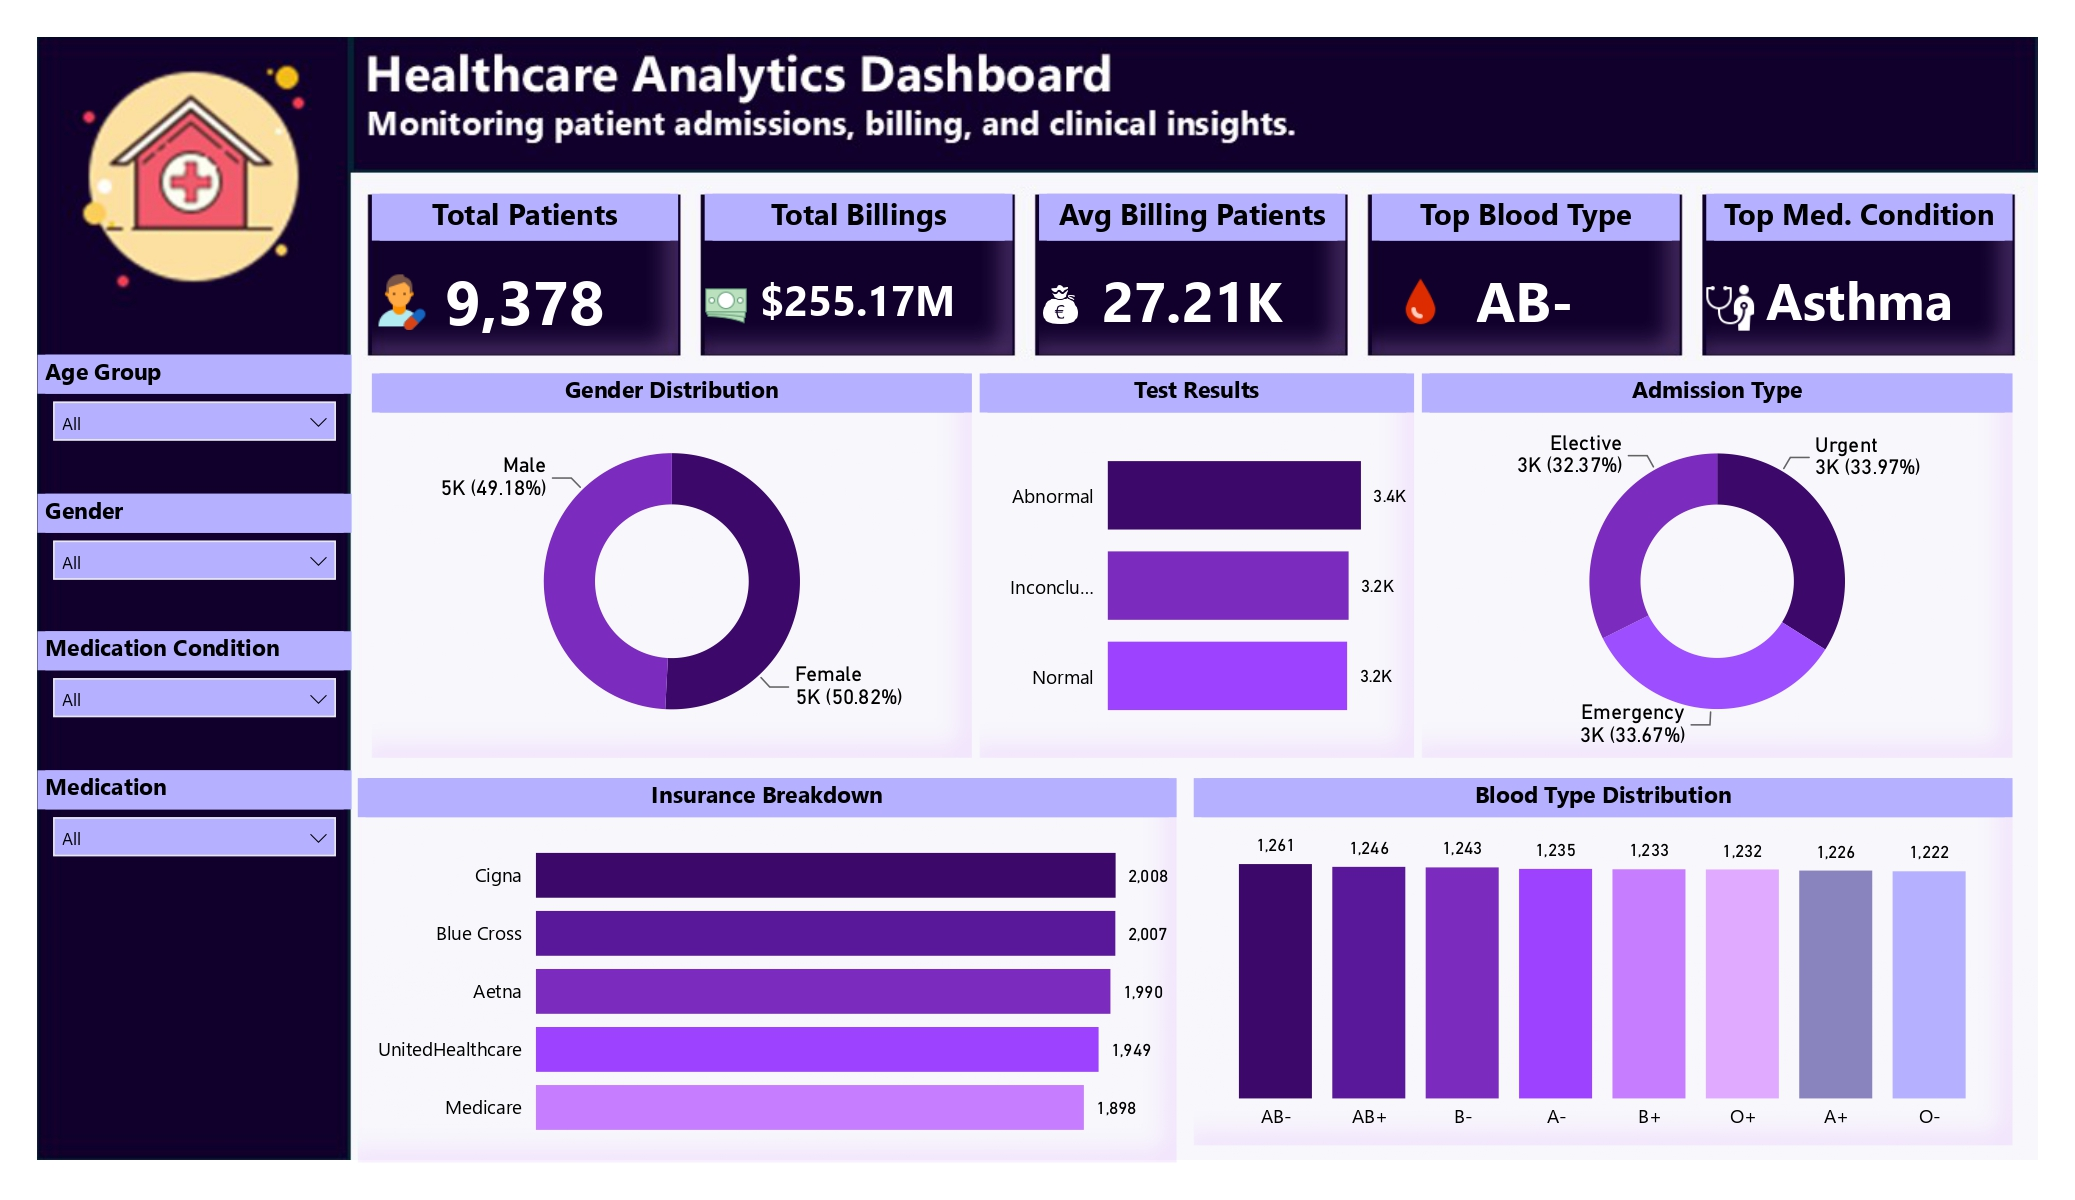

The dashboard page shown, as its layout file describes it:
{"tool":"powerbi","page":{"name":"Patient Demographics","canvas":[1280,720],"ordinal":2},"visuals":[{"type":"cardVisual","title":"Total Patients","fields":{"Data":["Measuress.No. of Patients"]},"box":[213.5,100.1,196.6,102.5],"z":0},{"type":"cardVisual","title":"Total Billings","fields":{"Data":["Measuress.Total Billings"]},"box":[427.1,100.1,196.6,102.5],"z":1000},{"type":"cardVisual","title":"Avg Billing Patients","fields":{"Data":["Measuress.Average Billing per Patient"]},"box":[640.6,100.1,196.6,102.5],"z":2000},{"type":"cardVisual","title":"Top Blood Type","fields":{"Data":["Measuress.Most Common Blood Type"]},"box":[854.2,100.1,196.6,102.5],"z":3000},{"type":"cardVisual","title":"Top Med. Condition","fields":{"Data":["Measuress.Most Common Medical Condition"]},"box":[1067.7,100.1,196.6,102.5],"z":4000},{"type":"slicer","title":"Gender","fields":{"Values":["Dataset.Gender"]},"box":[0,291.6,201.5,68.8],"z":5000},{"type":"slicer","title":"Age Group","fields":{"Values":["Dataset.Age Group"]},"box":[0,202.7,201.5,68.8],"z":6000},{"type":"slicer","title":"Medication Condition","fields":{"Values":["Dataset.Medical Condition"]},"box":[0,380.4,201.5,68.8],"z":7000},{"type":"slicer","title":"Medication","fields":{"Values":["Dataset.Medication"]},"box":[0,469.3,201.5,68.8],"z":8000},{"type":"donutChart","title":"Gender Distribution","fields":{"Category":["Dataset.Gender"],"Y":["Measuress.No. of Patients"]},"box":[213.5,214.7,384.9,246.1],"z":9000},{"type":"clusteredBarChart","title":"Insurance Breakdown","fields":{"Category":["Dataset.Insurance Provider"],"Y":["Measuress.No. of Patients"]},"box":[205.1,474.1,523.6,246.1],"z":10000},{"type":"donutChart","title":"Admission Type","fields":{"Category":["Dataset.Admission Type"],"Y":["Measuress.No. of Patients"]},"box":[885.5,214.7,378.8,246.1],"z":11000},{"type":"image","box":[205.1,142.4,54.3,49.5],"z":12000},{"type":"image","box":[422.3,146,37.4,47.1],"z":13000},{"type":"image","box":[633.4,152,42.2,37.4],"z":14000},{"type":"image","box":[854.2,146,61.5,44.6],"z":15000},{"type":"image","box":[1061.7,142.4,44.6,60.3],"z":16000},{"type":"columnChart","title":"Blood Type Distribution","fields":{"Category":["Dataset.Blood Type"],"Y":["Measuress.No. of Patients"]},"box":[739.5,474.1,524.8,235.3],"z":17000},{"type":"clusteredBarChart","title":"Test Results","fields":{"Category":["Dataset.Test Results"],"Y":["Measuress.No. of Patients"]},"box":[602.6,214.7,278.7,246.1],"z":17001}]}

Visuals, with their boxes on the page's 1280x720 design canvas (x1, y1, x2, y2). These are canvas units, not pixel positions in the 2075x1200 screenshot, which may show the page scaled, cropped or inside an application window:
"Total Patients" cardVisual: [214,100,410,203]
"Total Billings" cardVisual: [427,100,624,203]
"Avg Billing Patients" cardVisual: [641,100,837,203]
"Top Blood Type" cardVisual: [854,100,1051,203]
"Top Med. Condition" cardVisual: [1068,100,1264,203]
"Gender" slicer: [0,292,202,360]
"Age Group" slicer: [0,203,202,272]
"Medication Condition" slicer: [0,380,202,449]
"Medication" slicer: [0,469,202,538]
"Gender Distribution" donutChart: [214,215,598,461]
"Insurance Breakdown" clusteredBarChart: [205,474,729,720]
"Admission Type" donutChart: [886,215,1264,461]
image: [205,142,259,192]
image: [422,146,460,193]
image: [633,152,676,189]
image: [854,146,916,191]
image: [1062,142,1106,203]
"Blood Type Distribution" columnChart: [740,474,1264,709]
"Test Results" clusteredBarChart: [603,215,881,461]
